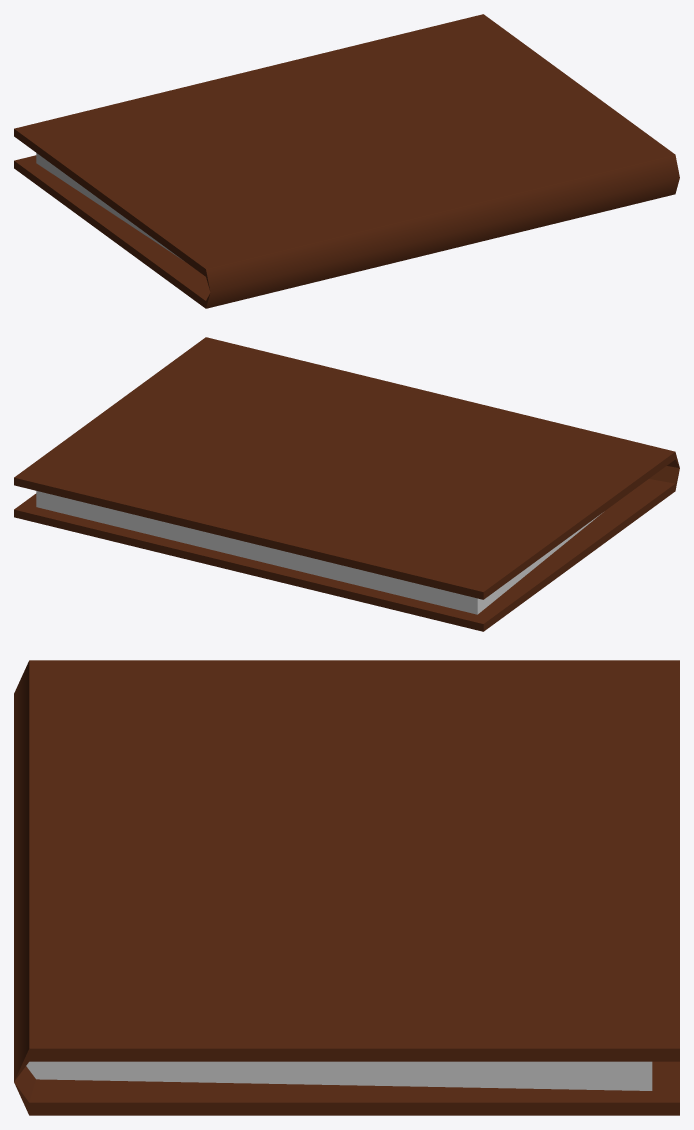
File: passport.fbx
3 renders of one model, top to bottom at view 1: azimuth 30°, elevation 25°; view 2: azimuth 150°, elevation 25°; view 3: azimuth 270°, elevation 25°, orthographic. The views are drawn at different scales.
Visible parts, largest first — view 1: fake_passport; view 2: fake_passport; view 3: fake_passport.
Boxes of the visible parts, x1,y1,x2,y2 form: fake_passport: [14, 14, 679, 308]; fake_passport: [14, 337, 679, 631]; fake_passport: [14, 660, 679, 1115].
Bounding box in the file's own units: 18.57 × 1.5 × 13.46.
1 material, 1 textured.
